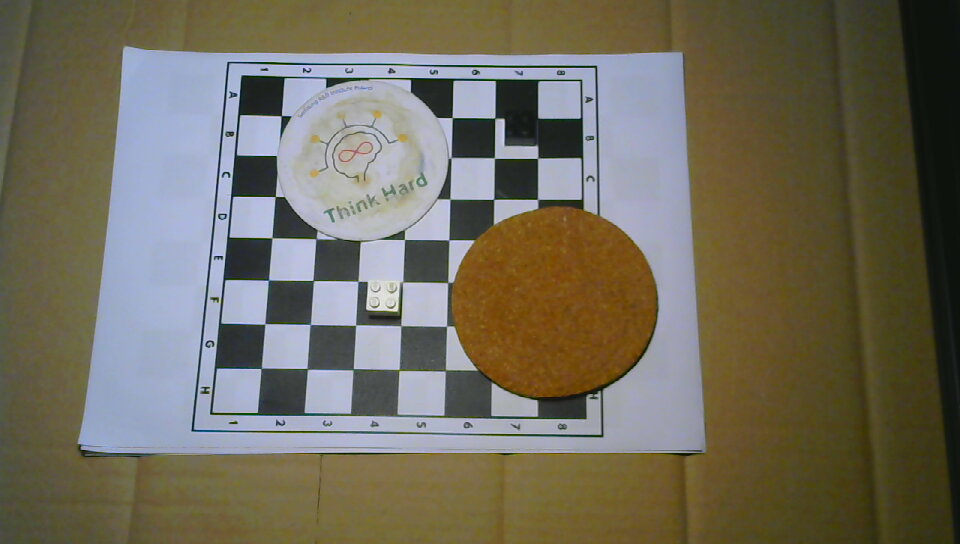bp: (503, 109, 538, 148)
wp: (364, 277, 403, 317)
